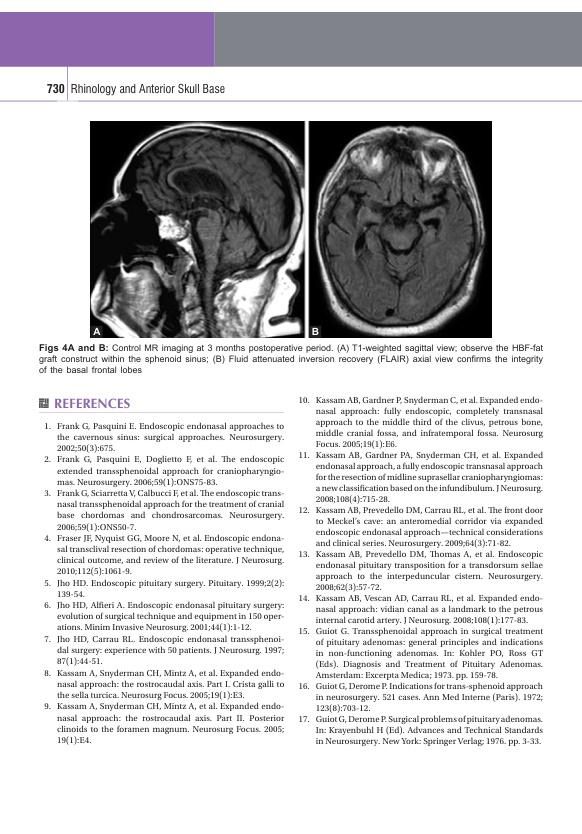caption: (37, 343, 544, 375), (92, 327, 102, 336), (311, 326, 320, 336)
header: (70, 82, 226, 97)
image: (90, 120, 306, 338), (308, 120, 493, 338)
list: (297, 395, 545, 748), (42, 421, 286, 746)
section-heading: (54, 396, 131, 409)
